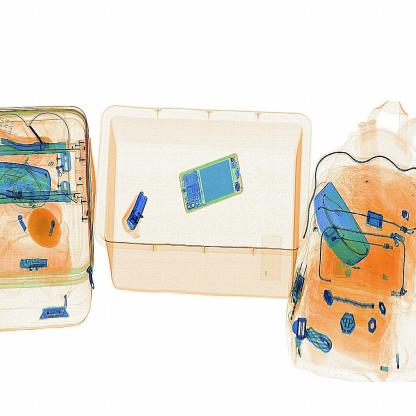pliers: (118, 184, 156, 240)
